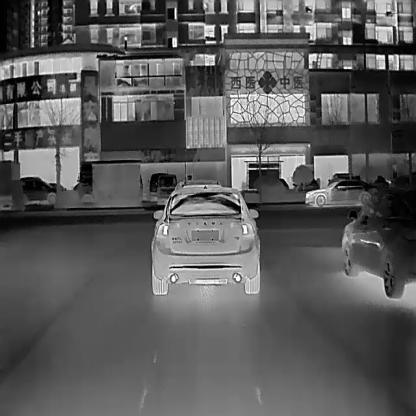car: (151, 179, 261, 293), (342, 190, 416, 298), (305, 178, 378, 206), (13, 177, 57, 206), (157, 173, 177, 204), (148, 172, 165, 192)
